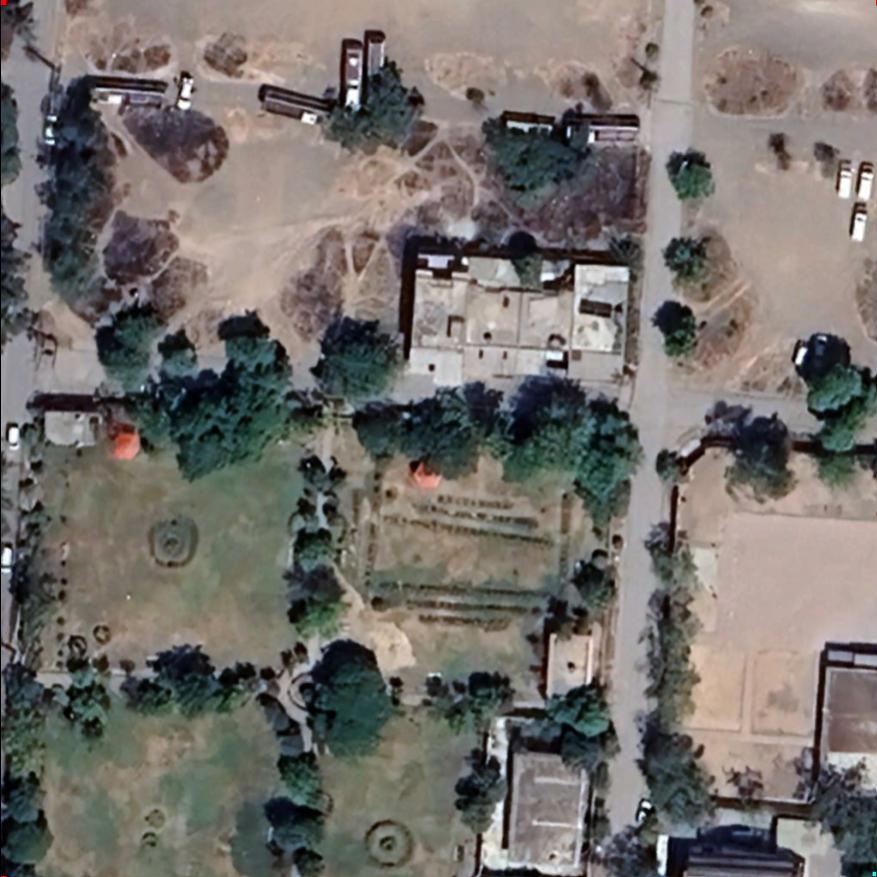Solarpanel: (576, 299, 612, 318)
